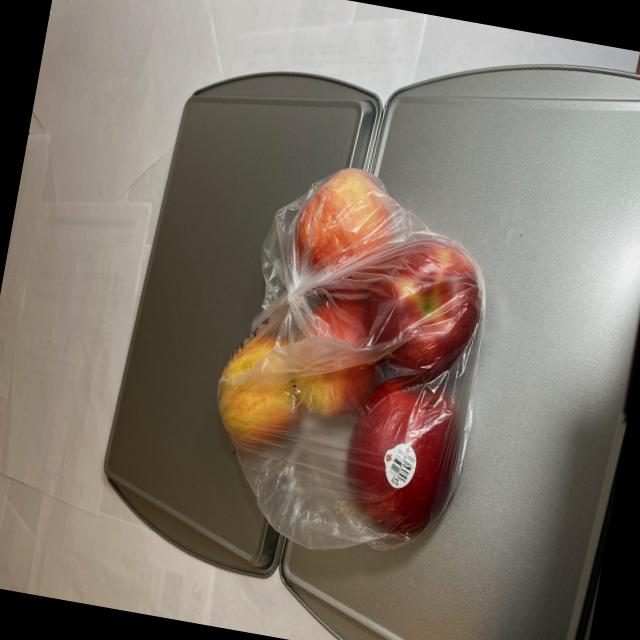apple: (194, 143, 510, 563)
